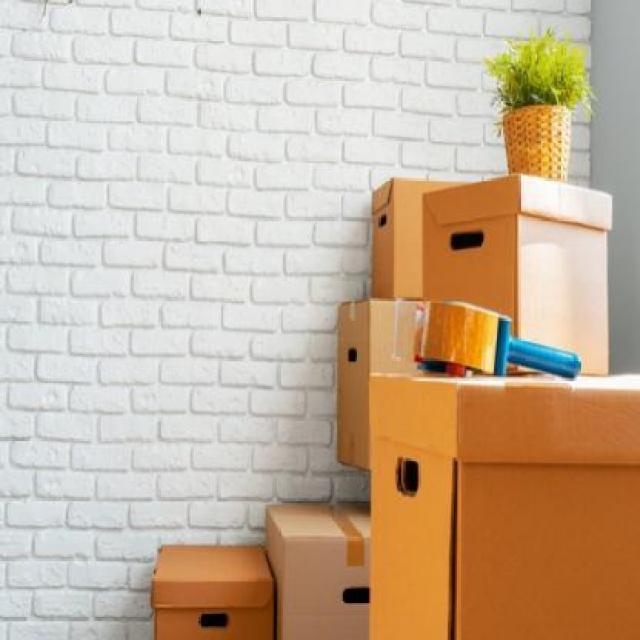box: (367, 365, 640, 640), (413, 181, 612, 379), (264, 496, 392, 640), (336, 300, 416, 464), (152, 536, 272, 640), (362, 177, 439, 298)
